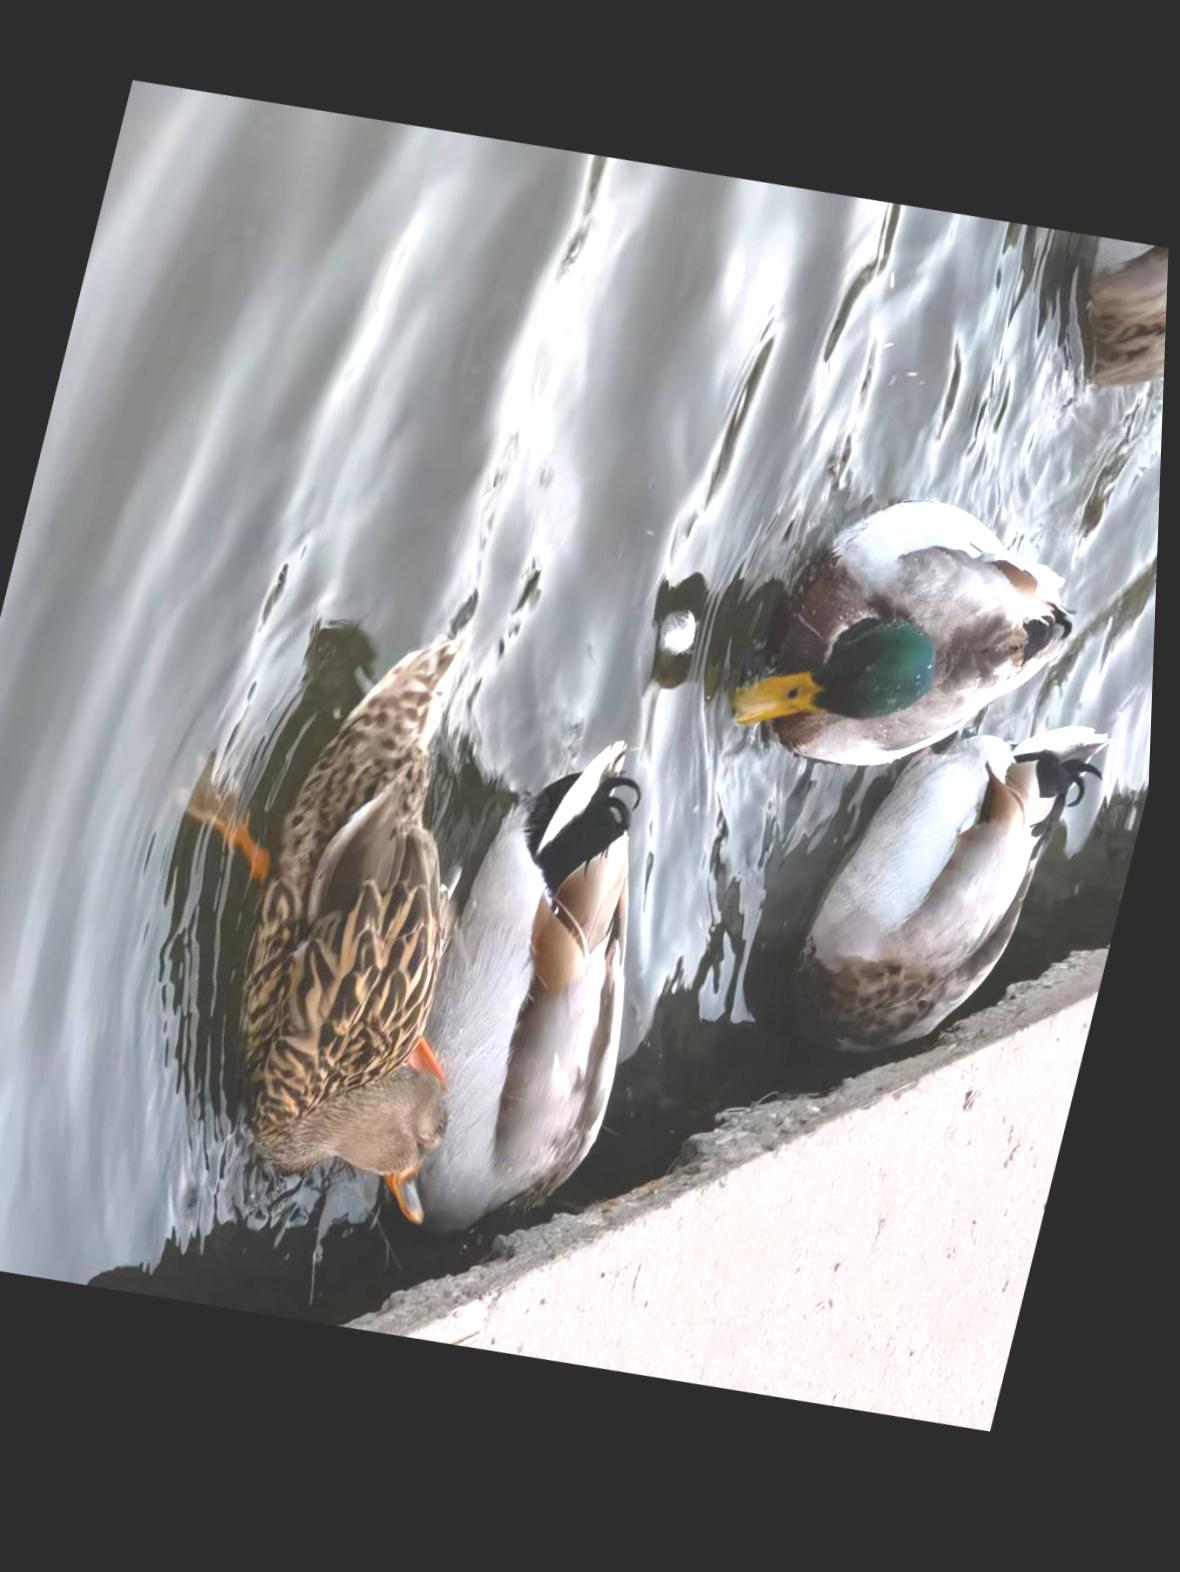duck: (99, 590, 585, 1248), (393, 710, 724, 1289), (728, 466, 1117, 832), (802, 695, 1125, 1108)
